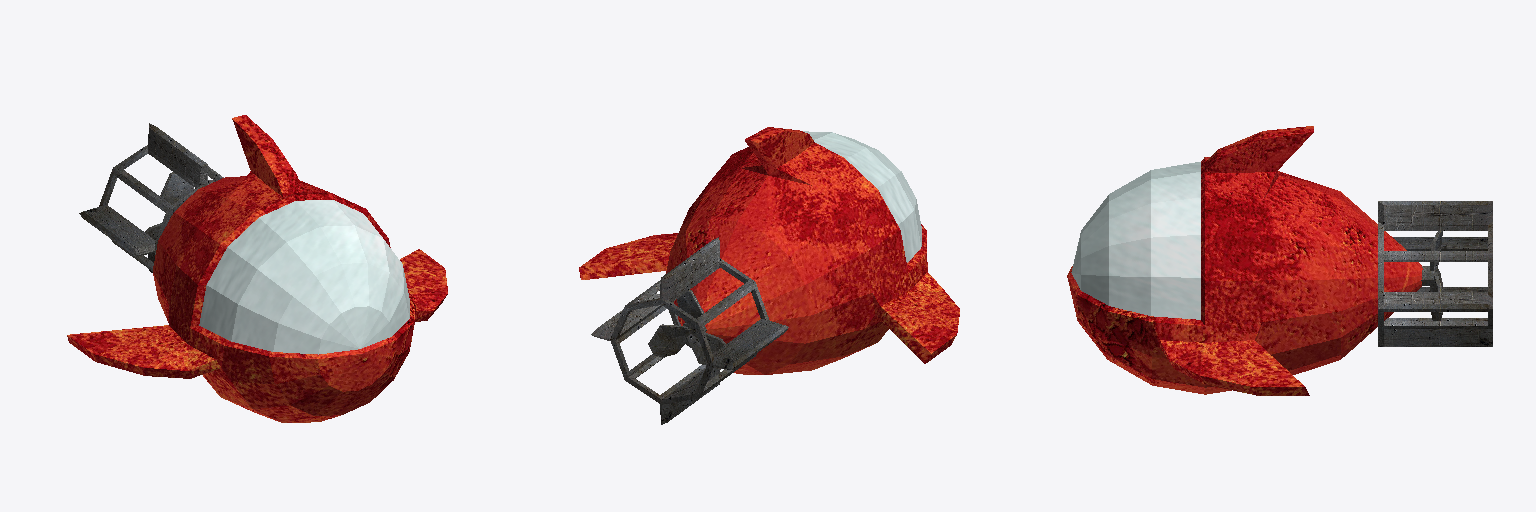
3 renders of one model, left to right at view 1: azimuth 30°, elevation 25°; view 2: azimuth 150°, elevation 25°; view 3: azimuth 270°, elevation 25°, orthographic.
Parts seen in each view (by area): view 1: Sphere_Sphere.001; view 2: Sphere_Sphere.001; view 3: Sphere_Sphere.001.
Part boxes in pixels (left/top/right/bottom): Sphere_Sphere.001: left=67, top=115, right=447, bottom=422; Sphere_Sphere.001: left=579, top=127, right=959, bottom=424; Sphere_Sphere.001: left=1067, top=126, right=1492, bottom=395.
Size of the model in its own units: 3.41 by 2.36 by 3.57.
3 materials, 1 textured.